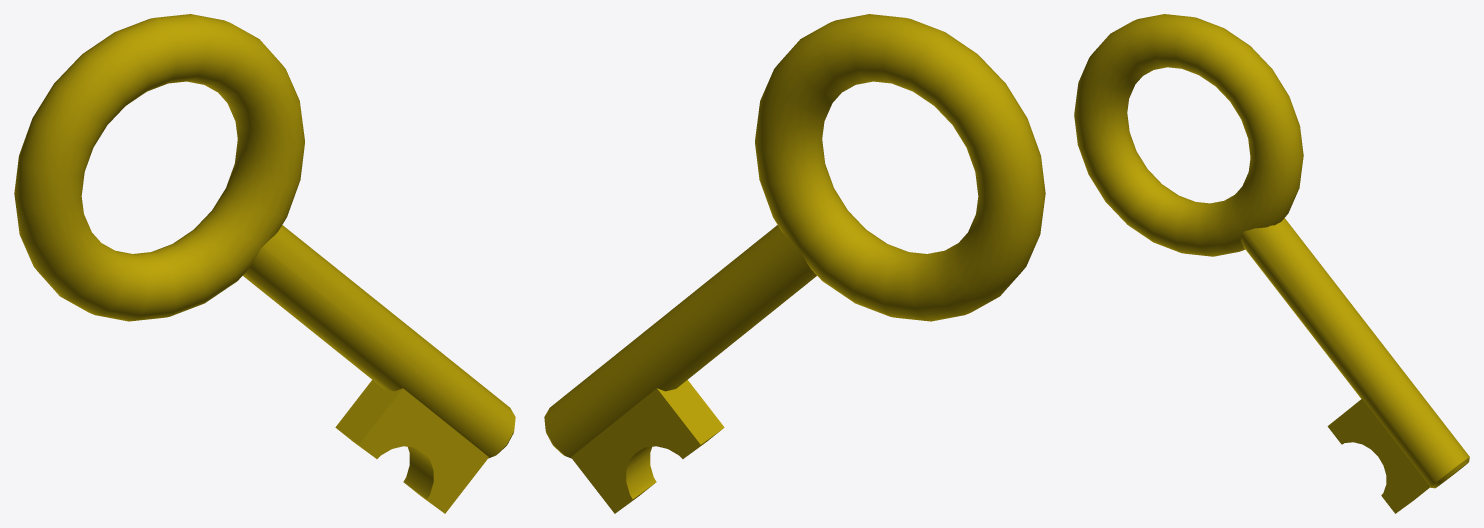
Rendered from Key.fbx.
3 views of the same model, side by side, from view 1: azimuth 30°, elevation 25°; view 2: azimuth 150°, elevation 25°; view 3: azimuth 330°, elevation 25° (orthographic). The views are drawn at different scales.
Parts seen in each view (by area): view 1: pTorus1, pCylinder1, pCube2; view 2: pTorus1, pCylinder1, pCube2; view 3: pTorus1, pCylinder1, pCube2.
Boxes of the visible parts, x1=… form: pTorus1: x1=14, y1=14, x2=304, y2=321; pCylinder1: x1=243, y1=225, x2=515, y2=458; pCube2: x1=335, y1=380, x2=488, y2=513; pTorus1: x1=755, y1=14, x2=1045, y2=321; pCylinder1: x1=544, y1=225, x2=816, y2=458; pCube2: x1=571, y1=380, x2=724, y2=513; pTorus1: x1=1074, y1=14, x2=1303, y2=256; pCylinder1: x1=1240, y1=218, x2=1469, y2=488; pCube2: x1=1327, y1=399, x2=1429, y2=513.
Bounding box in the file's own units: 3.52 × 0.42 × 3.78.
